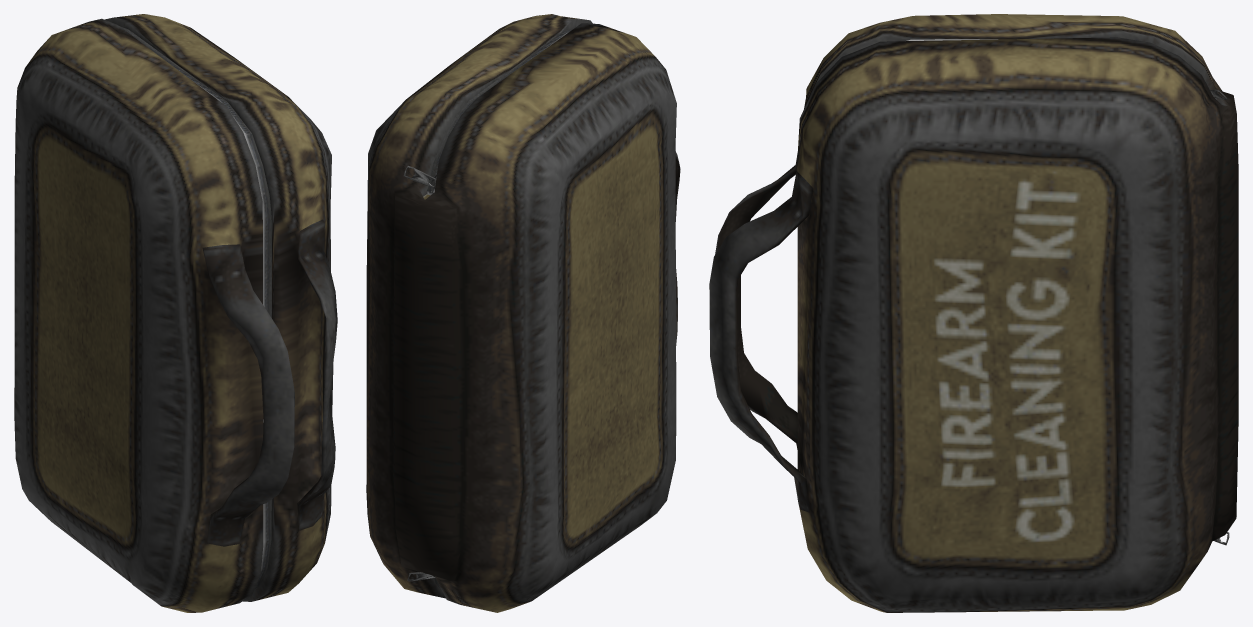
File: FirearmCleaningKit_Bag.fbx
The picture shows the model from 3 angles, left to right: view 1: azimuth 30°, elevation 25°; view 2: azimuth 150°, elevation 25°; view 3: azimuth 270°, elevation 25°; orthographic projection. The views are drawn at different scales.
Visible parts, largest first — view 1: Aid_kit; view 2: Aid_kit; view 3: Aid_kit.
Boxes of the visible parts, box(x1,y1,x2,y2) form: Aid_kit: box(14, 14, 337, 612); Aid_kit: box(366, 14, 680, 612); Aid_kit: box(709, 14, 1238, 612).
Size of the model in its own units: 0.0569 by 0.1466 by 0.127.
